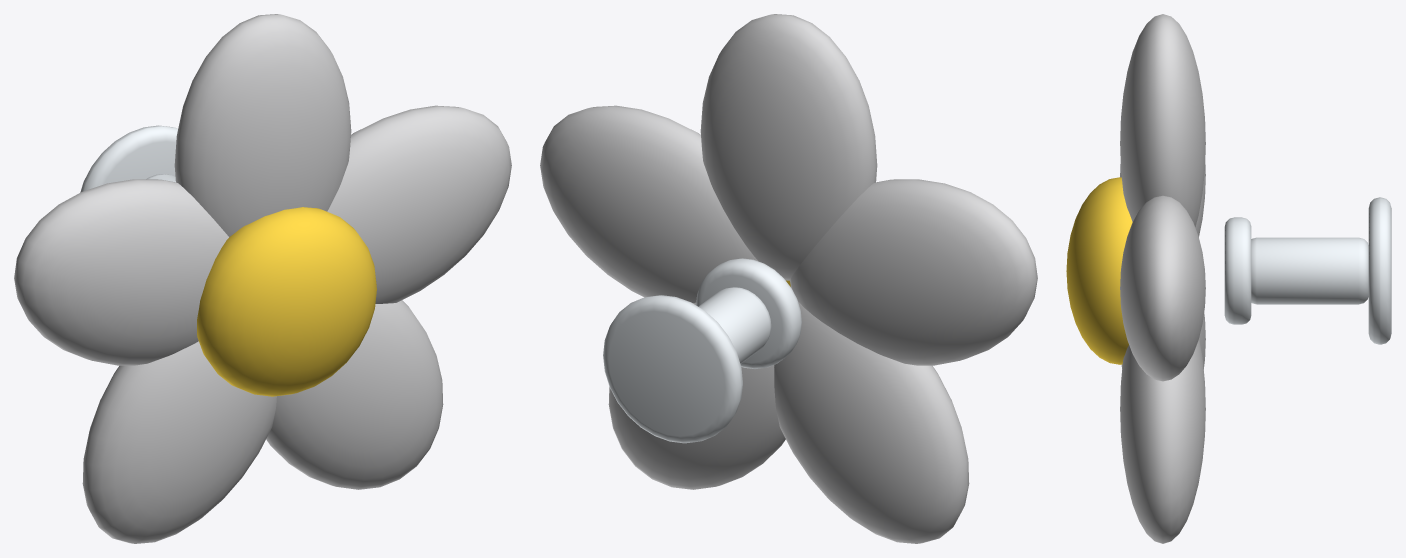
Rendered from daisy.glb.
3 renders of one model, left to right at view 1: azimuth 30°, elevation 25°; view 2: azimuth 150°, elevation 25°; view 3: azimuth 270°, elevation 25°, orthographic. The views are drawn at different scales.
Visible parts, largest first — view 1: Daisy_Petal_02, Daisy_Petal_01, Daisy_Center, Daisy_Petal_03, Daisy_Petal_05, Daisy_Petal_04, Attachment_Retaining_Disc.012; view 2: Daisy_Petal_02, Daisy_Petal_01, Daisy_Petal_03, Daisy_Petal_05, Attachment_Retaining_Disc.012, Daisy_Petal_04, Attachment_Collar.012, Attachment_Stem.012; view 3: Daisy_Petal_01, Daisy_Petal_04, Daisy_Petal_05, Daisy_Center, Attachment_Stem.012, Attachment_Retaining_Disc.012, Attachment_Collar.012.
Part boxes in pixels (<box>): Daisy_Petal_02: <box>14,179,228,365</box>; Daisy_Petal_01: <box>174,14,351,236</box>; Daisy_Center: <box>197,207,376,396</box>; Daisy_Petal_03: <box>82,341,276,543</box>; Daisy_Petal_05: <box>327,105,511,303</box>; Daisy_Petal_04: <box>266,300,443,489</box>; Attachment_Retaining_Disc.012: <box>80,125,177,192</box>; Daisy_Petal_02: <box>790,179,1037,365</box>; Daisy_Petal_01: <box>700,14,877,280</box>; Daisy_Petal_03: <box>774,301,969,543</box>; Daisy_Petal_05: <box>540,105,758,302</box>; Attachment_Retaining_Disc.012: <box>603,295,742,443</box>; Daisy_Petal_04: <box>608,302,785,489</box>; Attachment_Collar.012: <box>696,258,801,368</box>; Attachment_Stem.012: <box>698,287,771,363</box>; Daisy_Petal_01: <box>1120,14,1205,226</box>; Daisy_Petal_04: <box>1120,338,1205,543</box>; Daisy_Petal_05: <box>1120,195,1205,381</box>; Daisy_Center: <box>1066,177,1132,364</box>; Attachment_Stem.012: <box>1251,237,1368,304</box>; Attachment_Retaining_Disc.012: <box>1368,197,1391,344</box>; Attachment_Collar.012: <box>1224,217,1251,324</box>.
Bounding box in the file's own units: 0.3984 × 0.3839 × 0.2425.
